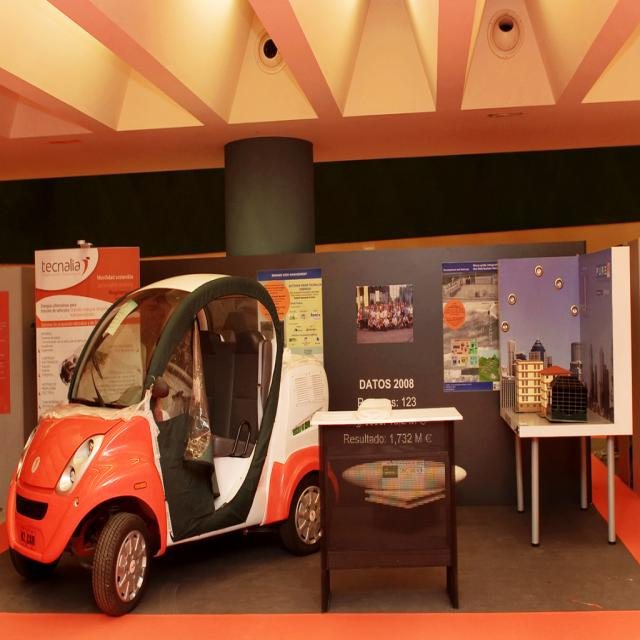car: (2, 270, 332, 615)
